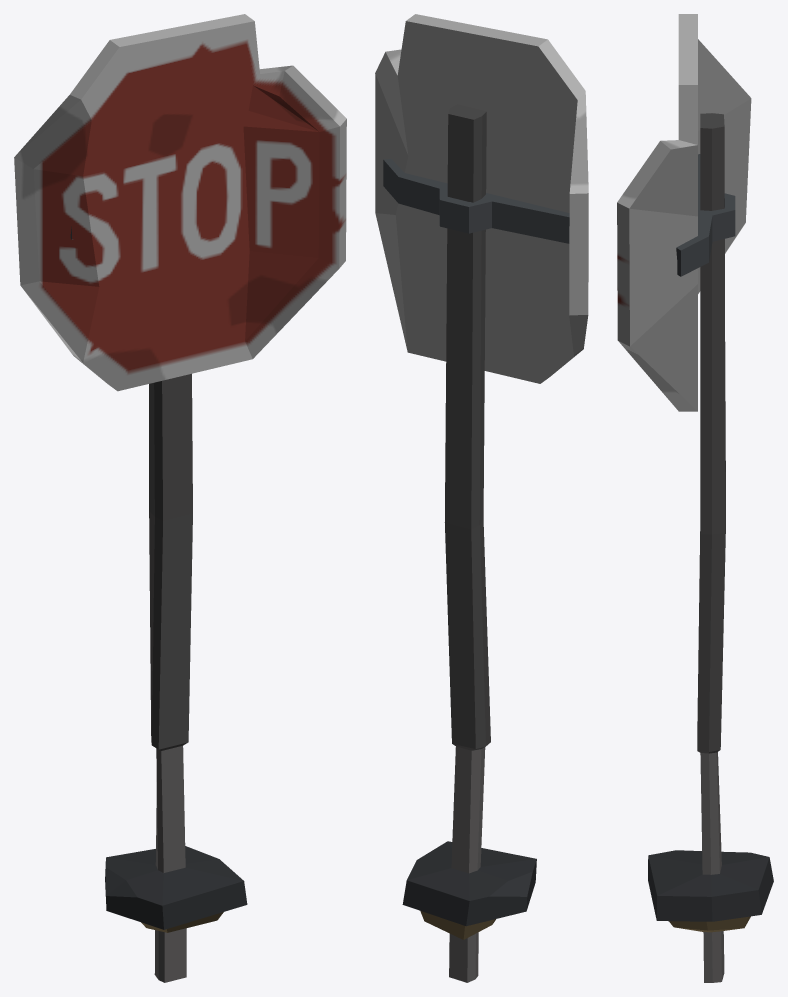
The model's file is SM_Prop_StopSign_01.fbx.
3 views of the same model, side by side, from view 1: azimuth 30°, elevation 25°; view 2: azimuth 150°, elevation 25°; view 3: azimuth 270°, elevation 25° (orthographic). The views are drawn at different scales.
Visible parts, largest first — view 1: SM_Prop_StopSign_01; view 2: SM_Prop_StopSign_01; view 3: SM_Prop_StopSign_01.
Boxes of the visible parts, x1,y1,x2,y2 form: SM_Prop_StopSign_01: [14, 14, 346, 982]; SM_Prop_StopSign_01: [375, 14, 588, 982]; SM_Prop_StopSign_01: [617, 14, 773, 982].
Size of the model in its own units: 40.94 by 136 by 20.82.
